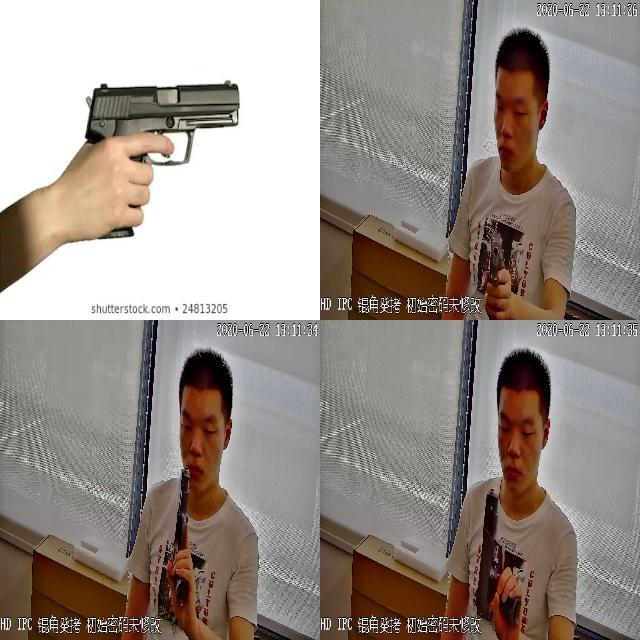gun-knife-thesis - v11 Yolov5 augmented: (80, 76, 239, 240), (469, 482, 524, 628), (168, 463, 193, 605), (484, 226, 506, 319)
